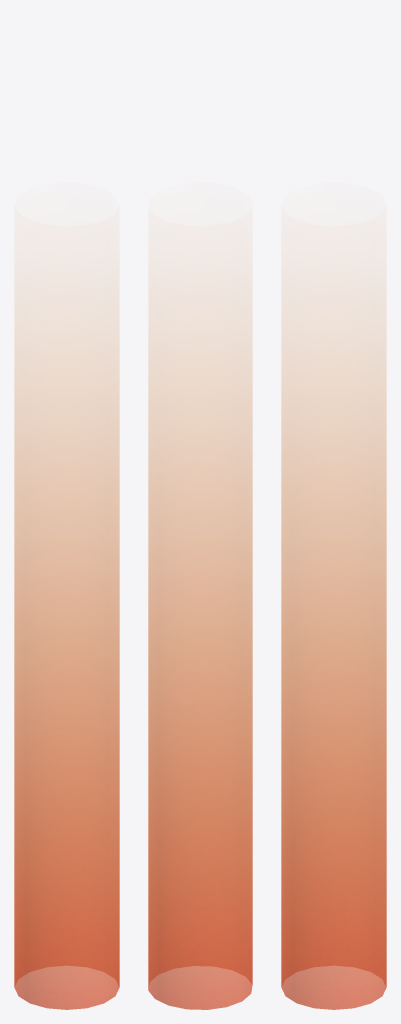
The model's file is lootbeam_gold.glb.
3 views of the same model, side by side, from view 1: azimuth 90°, elevation 25°; view 2: azimuth 210°, elevation 25°; view 3: azimuth 270°, elevation 25° (orthographic).
Parts seen in each view (by area): view 1: Lootbeam; view 2: Lootbeam; view 3: Lootbeam.
Part boxes in pixels (x1=…): Lootbeam: x1=14, y1=304, x2=119, y2=1009; Lootbeam: x1=148, y1=304, x2=252, y2=1009; Lootbeam: x1=281, y1=304, x2=386, y2=1009.
Bounding box in the file's own units: 0.2 × 2 × 0.2.
1 material, 1 textured.
